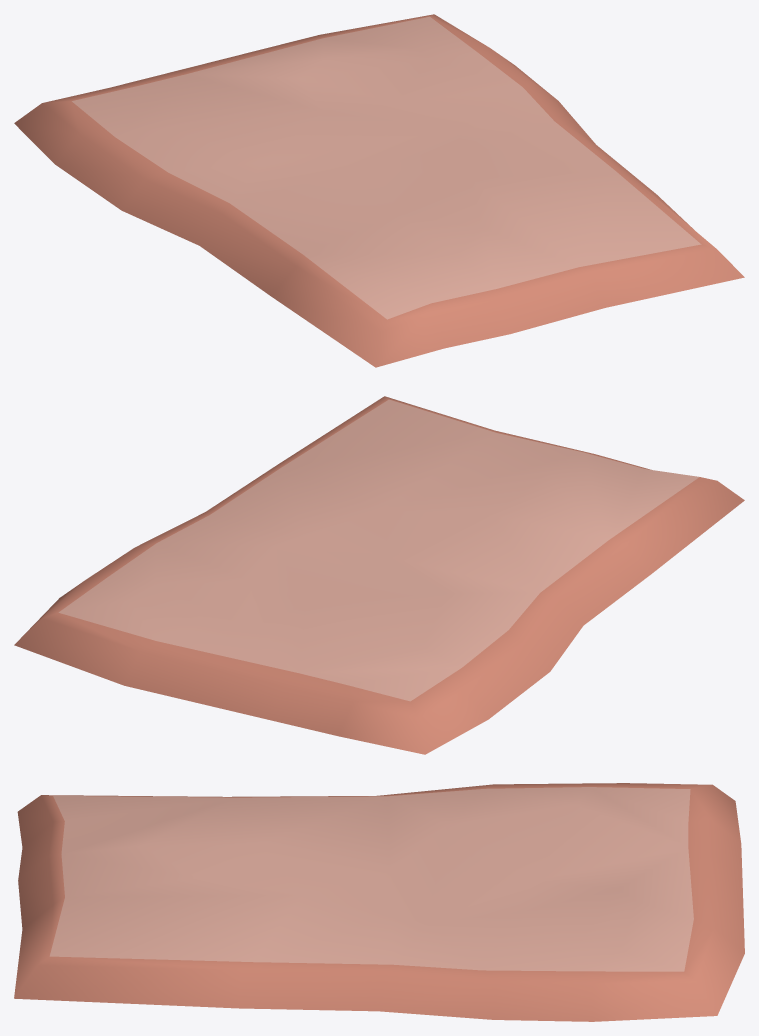
Rendered from ground_002.glb.
3 views of the same model, one above another, from view 1: azimuth 30°, elevation 25°; view 2: azimuth 150°, elevation 25°; view 3: azimuth 270°, elevation 25° (orthographic). The views are drawn at different scales.
Parts seen in each view (by area): view 1: ground_002.003; view 2: ground_002.003; view 3: ground_002.003.
Part boxes in pixels (x1,y1,x2,y2): ground_002.003: (14,14,744,367); ground_002.003: (14,396,744,754); ground_002.003: (14,783,744,1021).
Size of the model in its own units: 23.93 by 1.85 by 32.34.
Materials: 1 (1 with a texture image).
